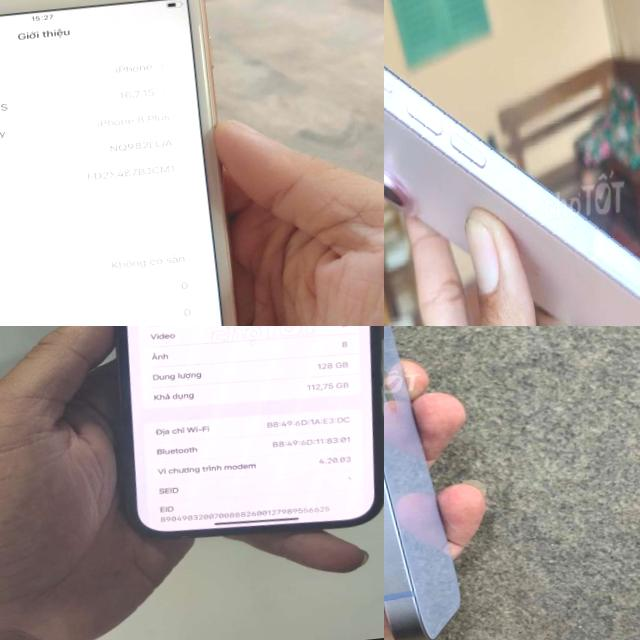gen_12_13: (95, 326, 384, 558)
gen_14: (384, 326, 474, 640)
gen_15: (384, 0, 640, 326)
gen_7_8: (0, 0, 260, 326)
